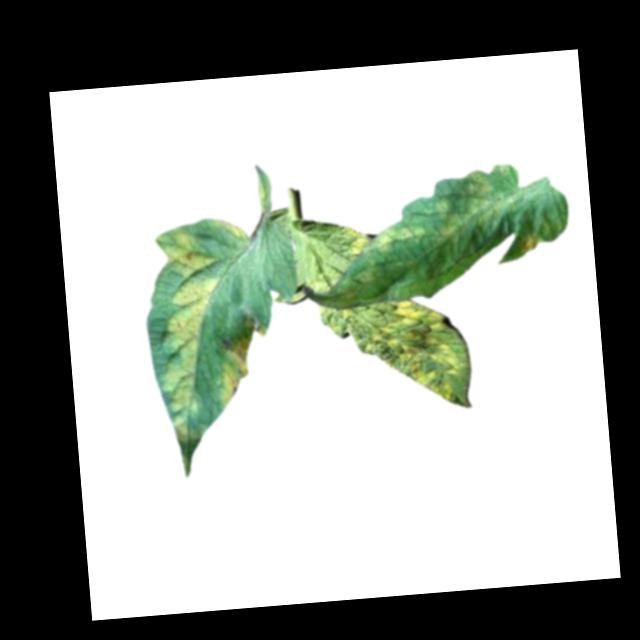Leaf_Mold: (151, 220, 235, 475), (316, 294, 474, 416), (428, 163, 517, 244), (212, 310, 272, 409), (376, 218, 424, 259), (341, 222, 374, 258), (517, 234, 541, 257)
